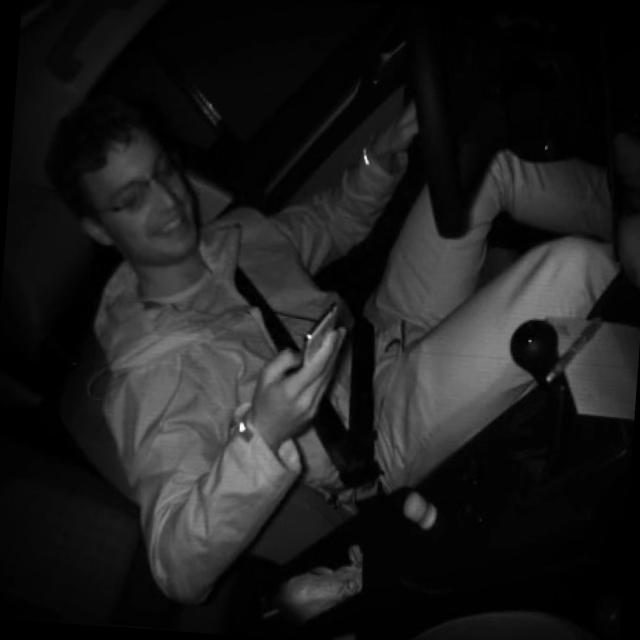pen: (543, 306, 606, 388)
